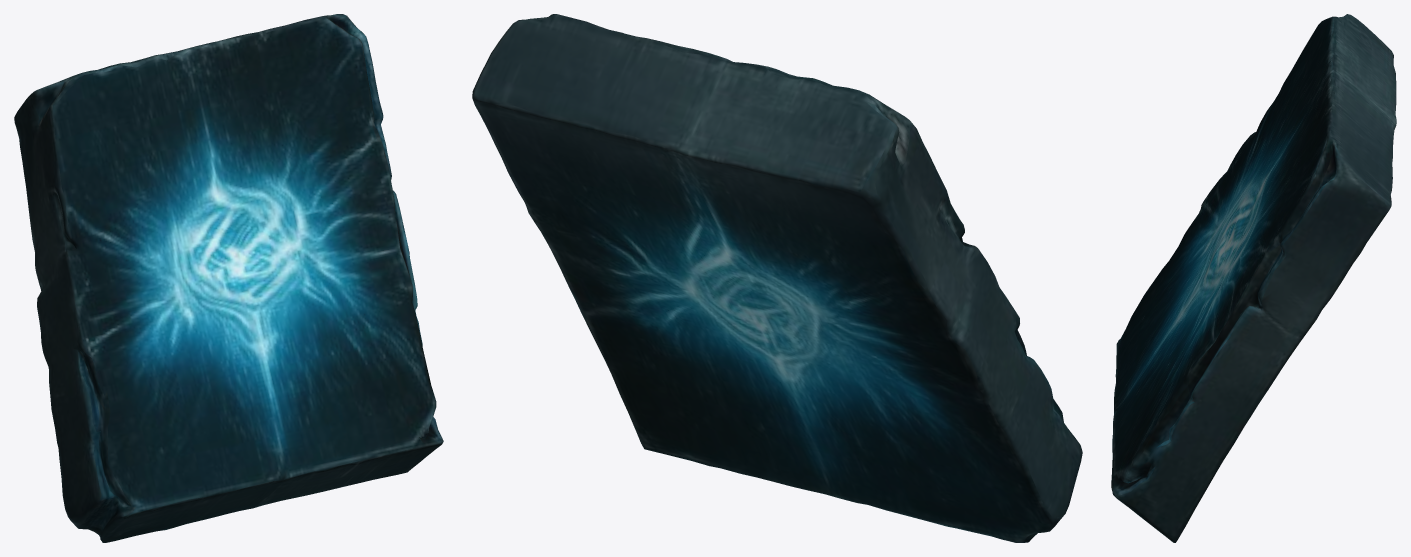
The model's file is rf_keyed_kinetic.glb.
3 views of the same model, side by side, from view 1: azimuth 30°, elevation 25°; view 2: azimuth 150°, elevation 25°; view 3: azimuth 270°, elevation 25° (orthographic). The views are drawn at different scales.
Parts seen in each view (by area): view 1: geometry_0; view 2: geometry_0; view 3: geometry_0.
Part boxes in pixels (x1,y1,x2,y2): geometry_0: (14,14,443,542); geometry_0: (472,14,1082,542); geometry_0: (1111,14,1396,542).
Size of the model in its own units: 0.9518 by 0.9992 by 0.6389.
1 material, 1 textured.
